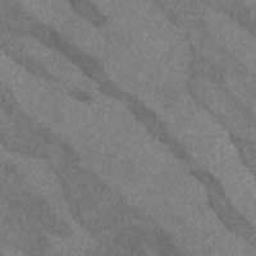Water spot: (0, 0, 256, 250), (0, 74, 187, 256), (148, 0, 256, 187), (64, 0, 110, 28), (41, 0, 52, 6)
